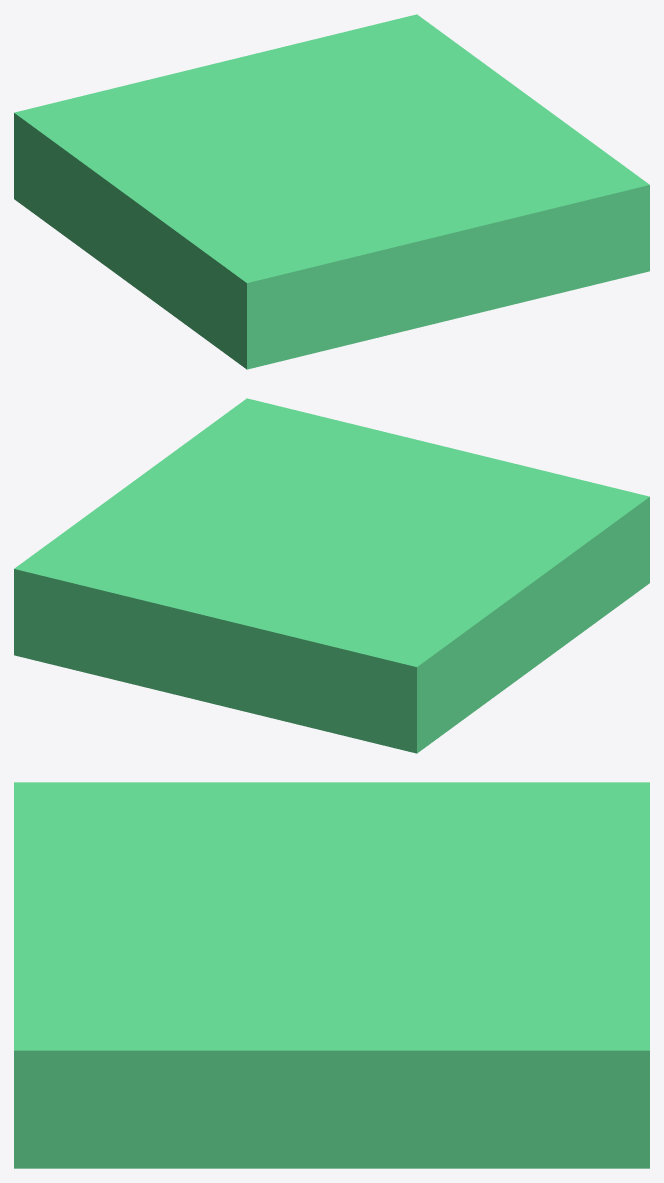
File: rubble_pile_c.glb
The picture shows the model from 3 angles, top to bottom: view 1: azimuth 30°, elevation 25°; view 2: azimuth 150°, elevation 25°; view 3: azimuth 270°, elevation 25°; orthographic projection. The views are drawn at different scales.
Parts seen in each view (by area): view 1: rubble_pile_c-col; view 2: rubble_pile_c-col; view 3: rubble_pile_c-col.
Part boxes in pixels (x1=…): rubble_pile_c-col: x1=14, y1=14, x2=649, y2=369; rubble_pile_c-col: x1=14, y1=398, x2=649, y2=753; rubble_pile_c-col: x1=14, y1=782, x2=649, y2=1168.
Bounding box in the file's own units: 2.93 × 0.6013 × 2.94.
